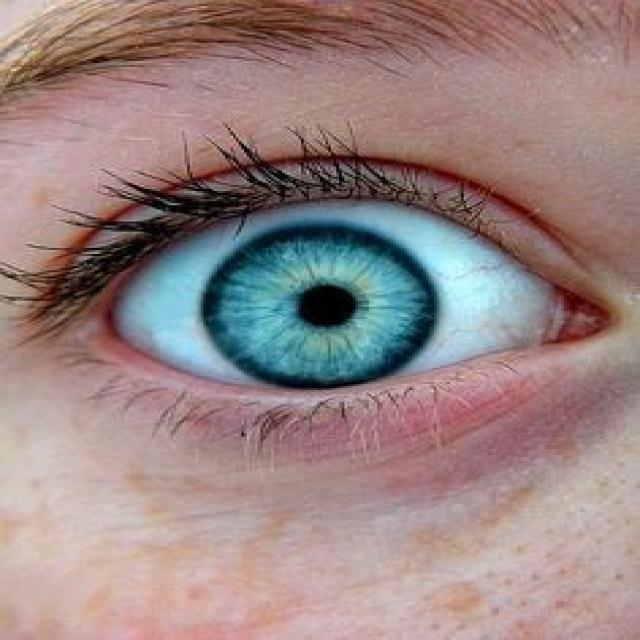Normal: (38, 81, 638, 502)
